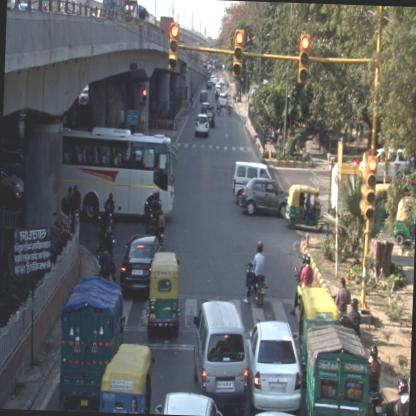bus: (59, 126, 179, 224)
car: (192, 298, 252, 400), (242, 318, 304, 414), (119, 232, 163, 302), (242, 177, 292, 219), (233, 160, 275, 204), (153, 393, 225, 415), (194, 114, 211, 139), (203, 111, 215, 130), (219, 92, 227, 107), (202, 102, 210, 114), (199, 91, 206, 103)
motorcycle: (242, 240, 268, 307), (368, 343, 388, 415), (290, 256, 314, 314), (142, 192, 167, 238), (216, 101, 223, 117), (229, 101, 232, 118)
truck: (58, 274, 126, 412), (302, 324, 373, 415)
